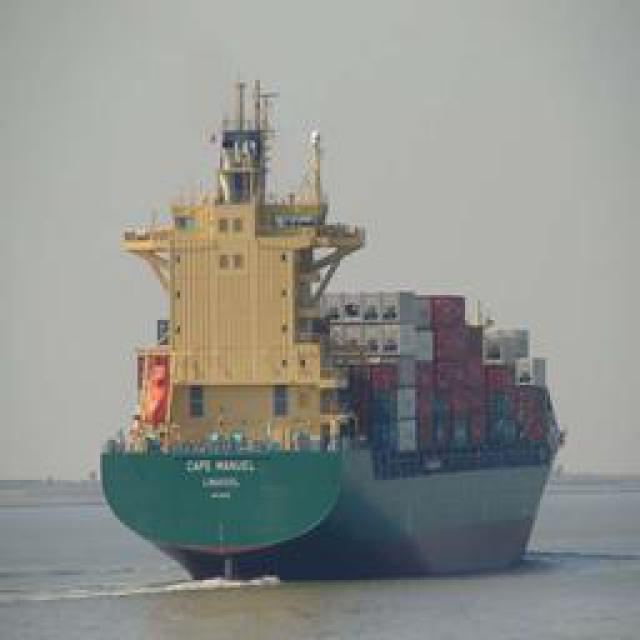Ship: (108, 190, 556, 595)
